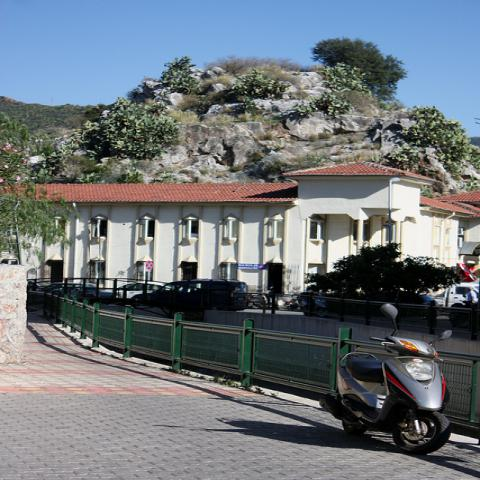motorcycle: (317, 303, 453, 454)
truck: (129, 278, 249, 310), (427, 281, 480, 308)
